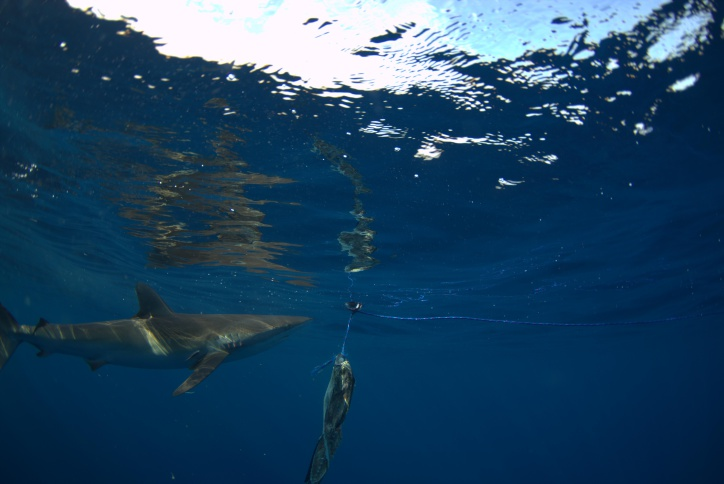Sedoso: (1, 271, 320, 405)
